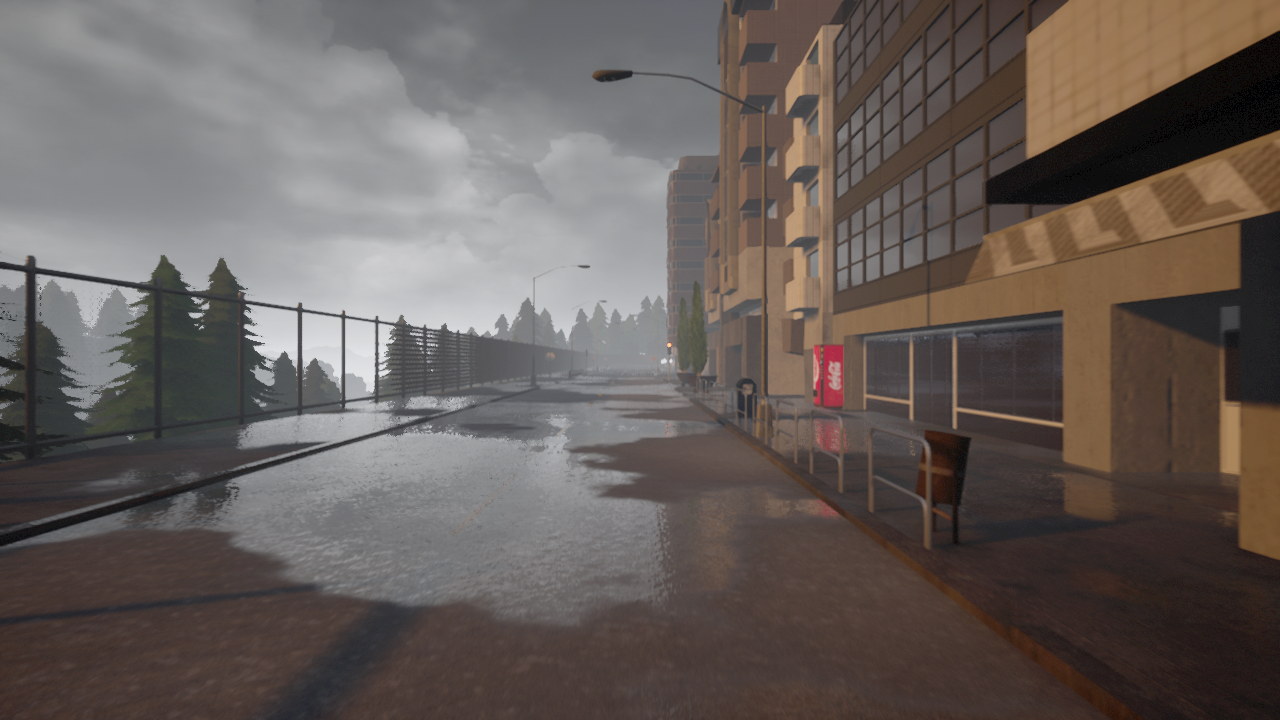red: (666, 342, 672, 356)
